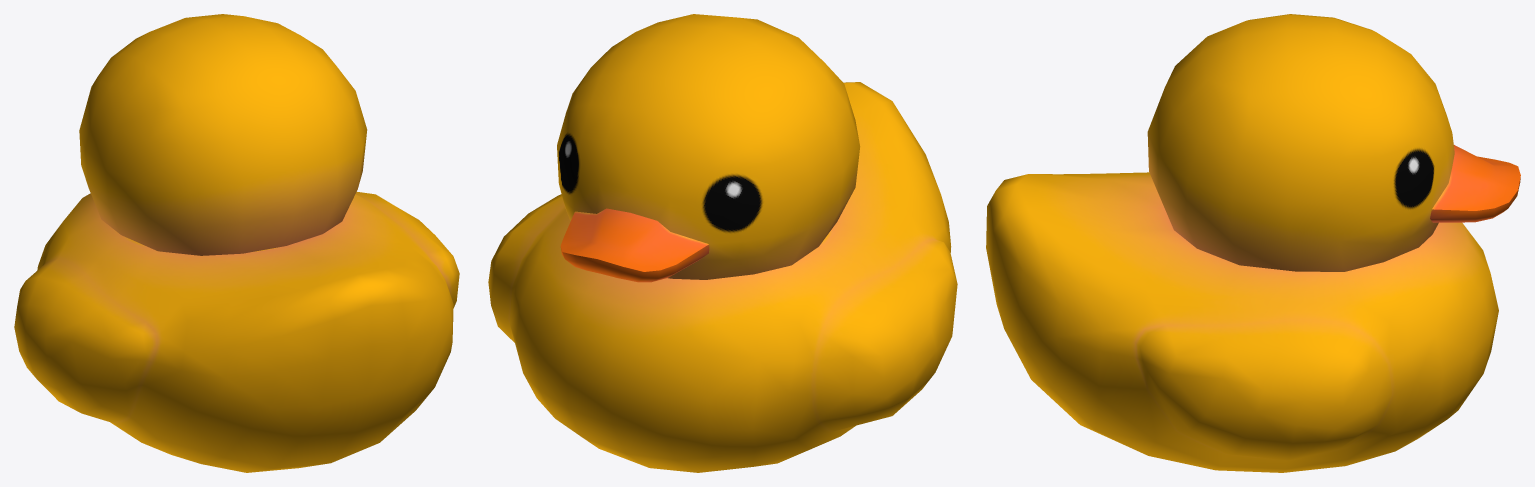
File: SM_LittleYellowDuck.fbx
The picture shows the model from 3 angles, left to right: view 1: azimuth 30°, elevation 25°; view 2: azimuth 150°, elevation 25°; view 3: azimuth 270°, elevation 25°; orthographic projection. The views are drawn at different scales.
Parts seen in each view (by area): view 1: LittleYellowDuck; view 2: LittleYellowDuck; view 3: LittleYellowDuck.
Part boxes in pixels (x1=…): LittleYellowDuck: x1=14, y1=14, x2=459, y2=472; LittleYellowDuck: x1=488, y1=14, x2=957, y2=472; LittleYellowDuck: x1=986, y1=14, x2=1520, y2=472.
Size of the model in its own units: 1.16 by 1.11 by 1.29.
Materials: 1 (1 with a texture image).
